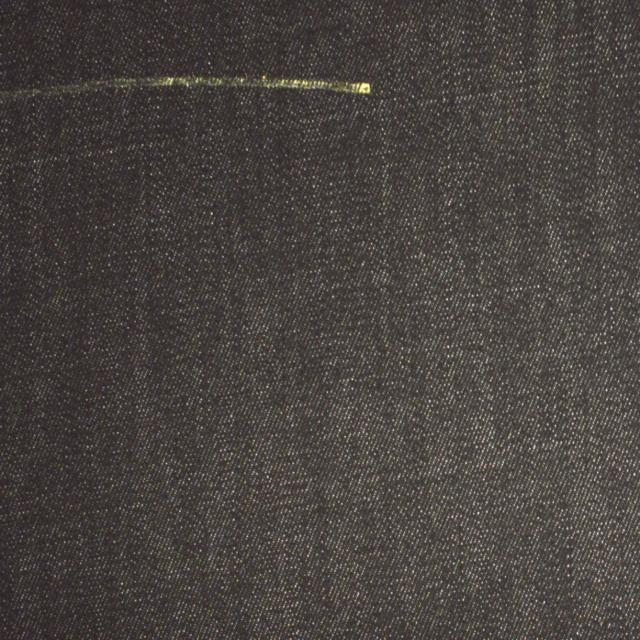Stain: (0, 74, 374, 99)
